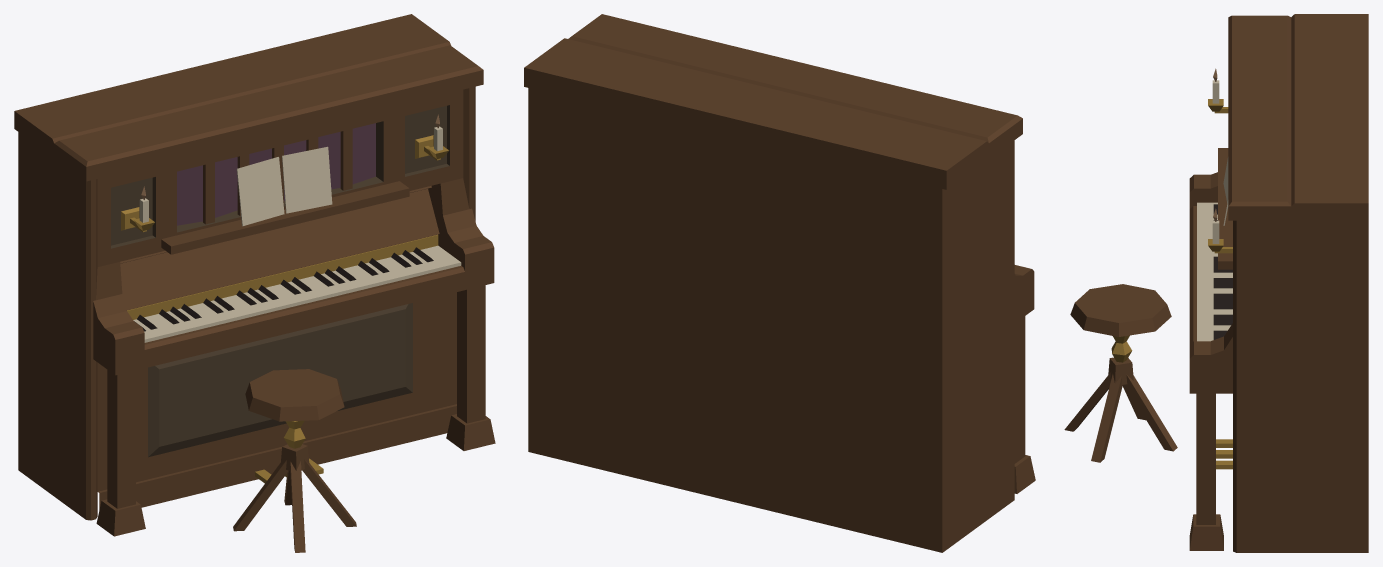
File: saloon-upright-piano-4b9c64.glb
3 renders of one model, left to right at view 1: azimuth 30°, elevation 25°; view 2: azimuth 150°, elevation 25°; view 3: azimuth 270°, elevation 25°, orthographic. The views are drawn at different scales.
Parts seen in each view (by area): view 1: saloon-upright-piano, lid, stool, score; view 2: saloon-upright-piano; view 3: saloon-upright-piano, stool.
Part boxes in pixels (left/top/right/bottom): saloon-upright-piano: left=14, top=14, right=495, bottom=536; lid: left=120, top=186, right=439, bottom=310; stool: left=233, top=369, right=356, bottom=552; score: left=236, top=146, right=332, bottom=226; saloon-upright-piano: left=524, top=14, right=1035, bottom=552; saloon-upright-piano: left=1189, top=14, right=1368, bottom=552; stool: left=1064, top=284, right=1177, bottom=462.
Bounding box in the file's own units: 1.5 × 1.3 × 1.02.
